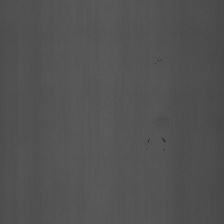inclusion: (147, 49, 166, 68), (160, 127, 169, 150), (145, 130, 151, 156)
